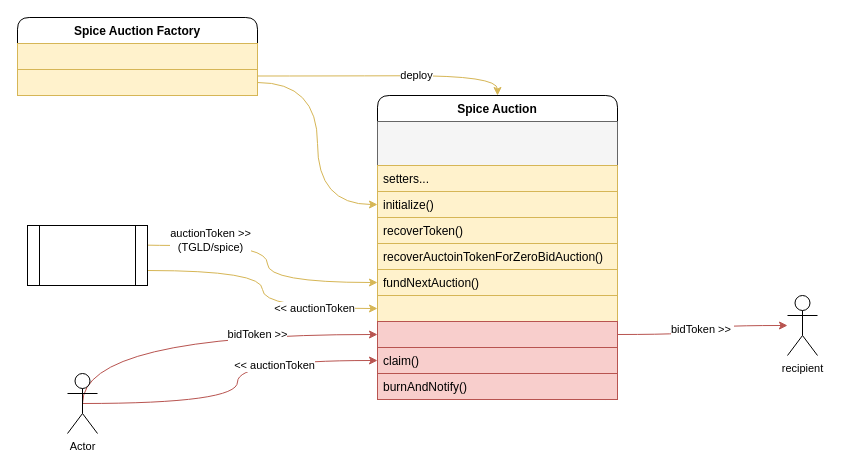
Image size: 841x471. Some labels were removed from this diagram. Here are the shapes that lost their labels. From the top down, the centre of each, then its label:
At [137,56]: "setters() : strategy, operator, ...".
At [137,82]: "createAuction()".
At [497,143]: "expected tokens in balance: bidtoken (TGLD, spice tokens)".
At [87,255]: "Gnosis Strategy".
At [497,308]: "removeAuctionconfig()".
At [497,334]: "bid()".
